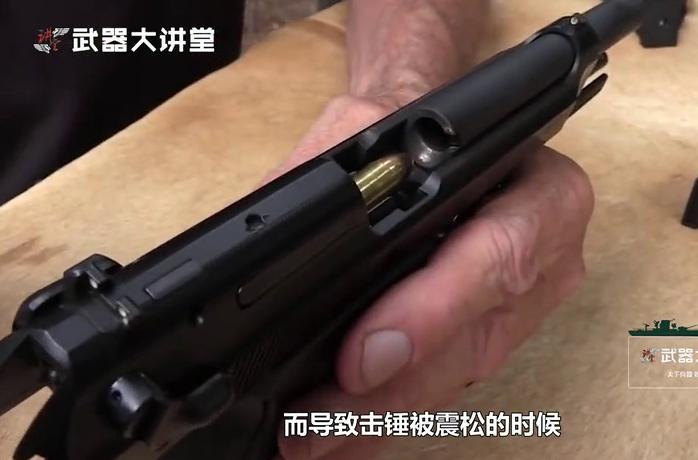gun: (1, 1, 698, 460)
